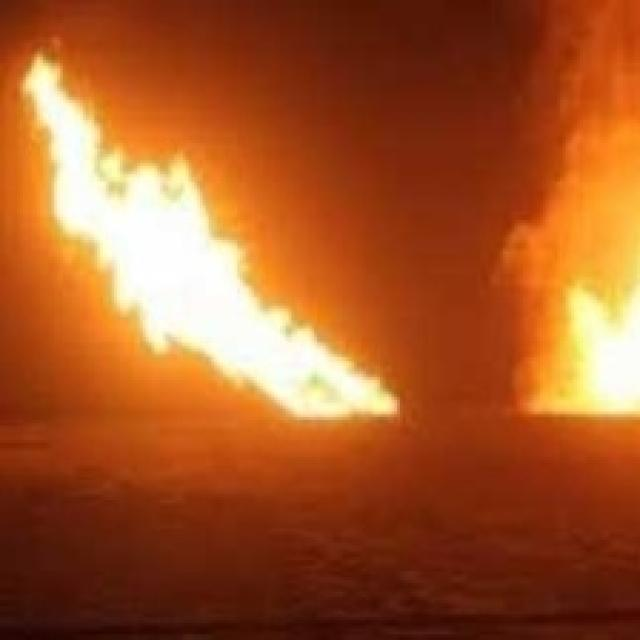Fire: (27, 59, 394, 422)
